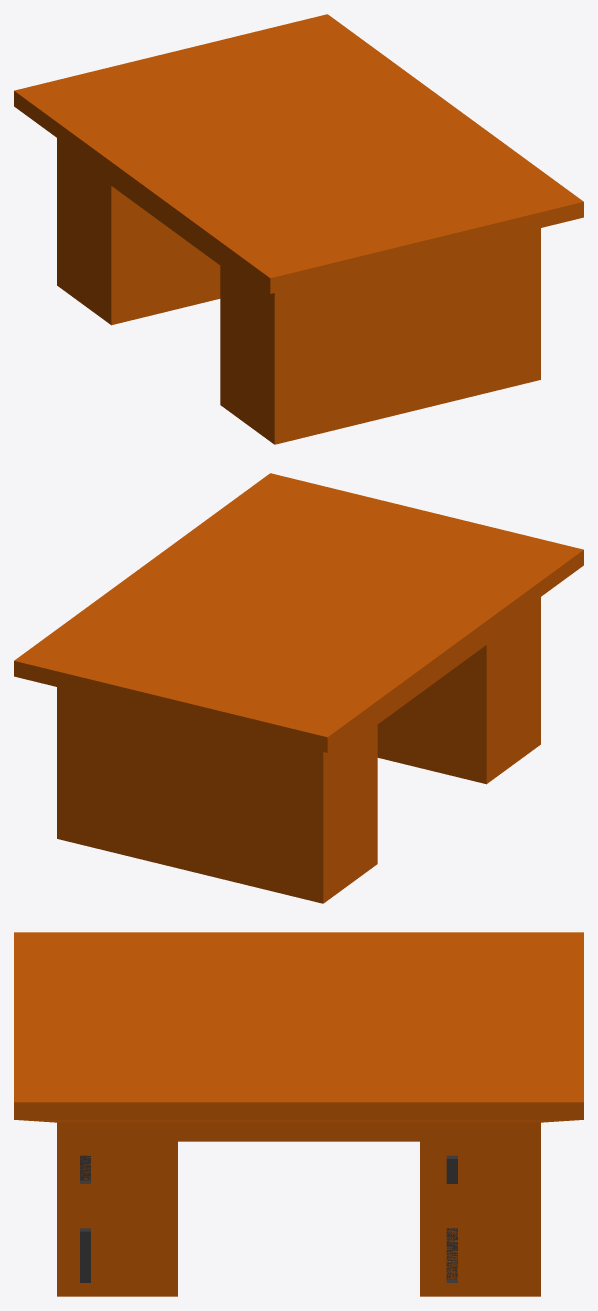
File: Furniturer2.fbx
3 renders of one model, top to bottom at view 1: azimuth 30°, elevation 25°; view 2: azimuth 150°, elevation 25°; view 3: azimuth 270°, elevation 25°, orthographic. The views are drawn at different scales.
Parts seen in each view (by area): view 1: Cube; view 2: Cube; view 3: Cube.
Boxes of the visible parts, left/top/right/bottom form: Cube: left=14, top=14, right=583, bottom=444; Cube: left=14, top=473, right=583, bottom=903; Cube: left=14, top=932, right=583, bottom=1296.
Size of the model in its own units: 1163 by 661 by 1646.
